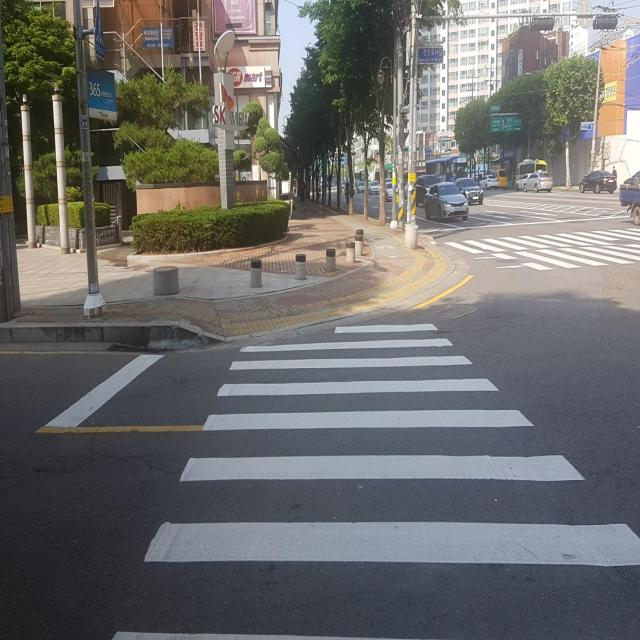횡단보도: (106, 314, 640, 640), (446, 226, 640, 271)
